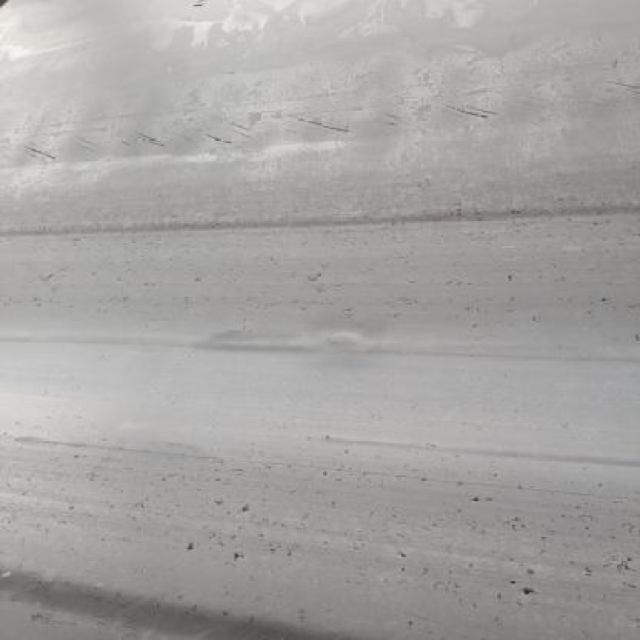Impact Damage: (194, 319, 388, 365)
Puncture: (521, 584, 536, 600), (228, 550, 247, 562), (503, 272, 518, 284), (238, 502, 252, 514), (184, 540, 196, 552), (507, 576, 519, 588), (469, 495, 482, 506), (398, 551, 409, 560)
